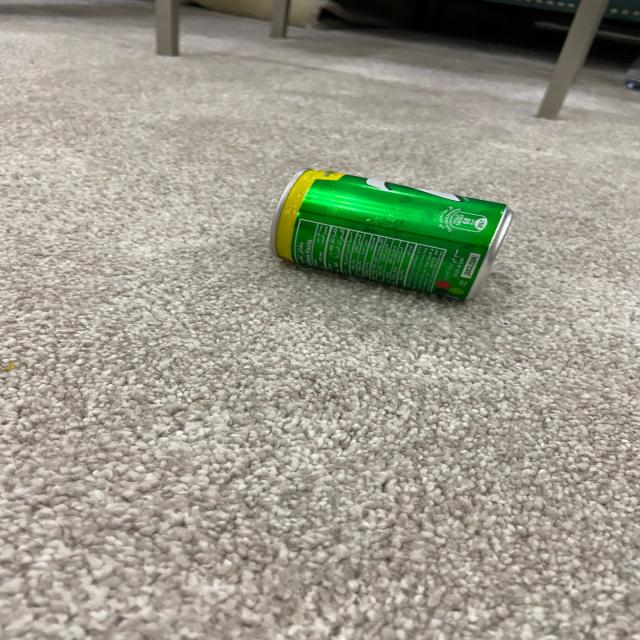non-organic waste: (270, 163, 518, 307)
